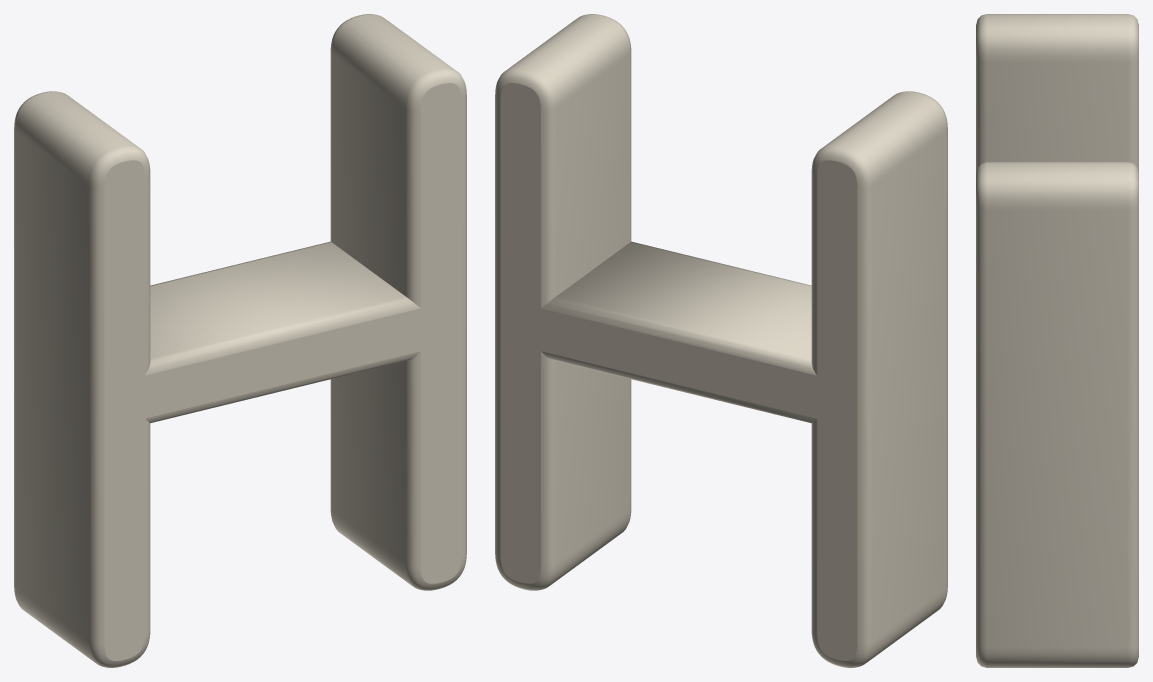
File: letter_h.glb
The picture shows the model from 3 angles, left to right: view 1: azimuth 30°, elevation 25°; view 2: azimuth 150°, elevation 25°; view 3: azimuth 270°, elevation 25°; orthographic projection. The views are drawn at different scales.
Parts seen in each view (by area): view 1: color_body; view 2: color_body; view 3: color_body.
Boxes of the visible parts, x1,y1,x2,y2 form: color_body: [14, 14, 466, 667]; color_body: [495, 14, 947, 667]; color_body: [976, 14, 1138, 667].
Size of the model in its own units: 0.6194 by 0.816 by 0.242.
